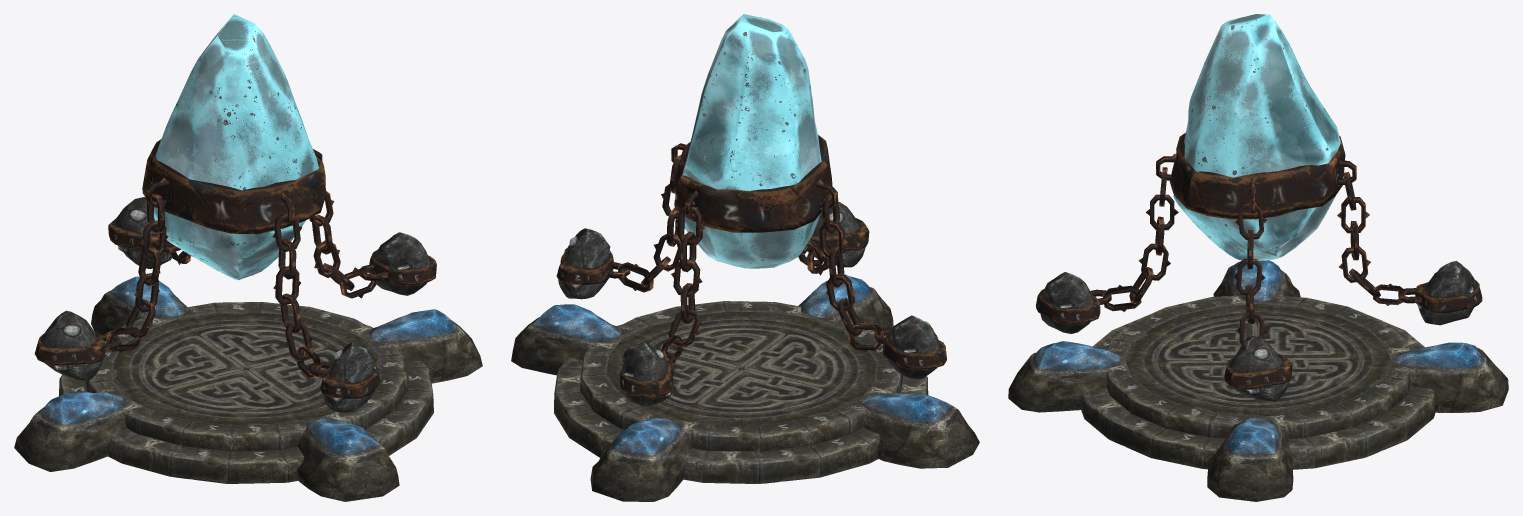
Rendered from Runestone.fbx.
3 views of the same model, side by side, from view 1: azimuth 30°, elevation 25°; view 2: azimuth 150°, elevation 25°; view 3: azimuth 270°, elevation 25° (orthographic). The views are drawn at different scales.
Visible parts, largest first — view 1: Runestone, Cristal; view 2: Runestone, Cristal; view 3: Runestone, Cristal.
Boxes of the visible parts, x1=… form: Runestone: x1=14, y1=276, x2=482, y2=501; Cristal: x1=34, y1=14, x2=436, y2=412; Runestone: x1=511, y1=274, x2=979, y2=501; Cristal: x1=556, y1=14, x2=946, y2=406; Runestone: x1=1008, y1=260, x2=1508, y2=501; Cristal: x1=1036, y1=14, x2=1482, y2=401.
Size of the model in its own units: 8.17 by 6.73 by 8.09.
